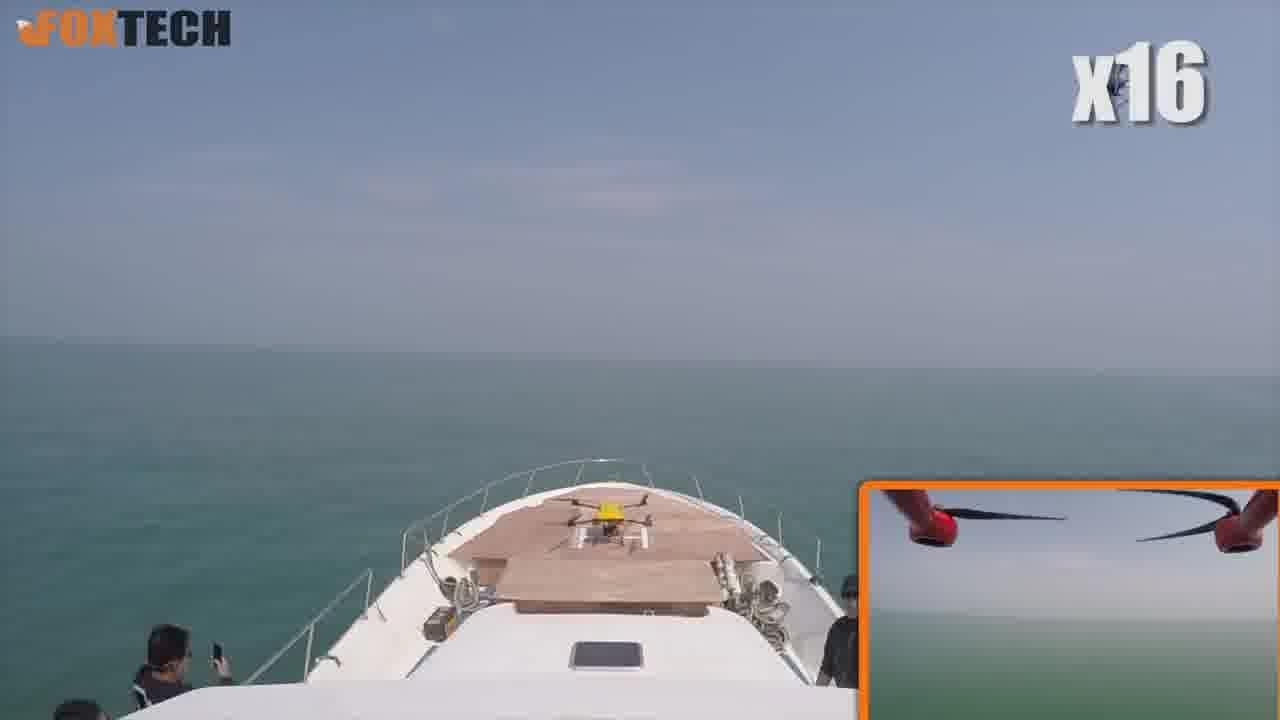drone: (549, 491, 665, 540)
